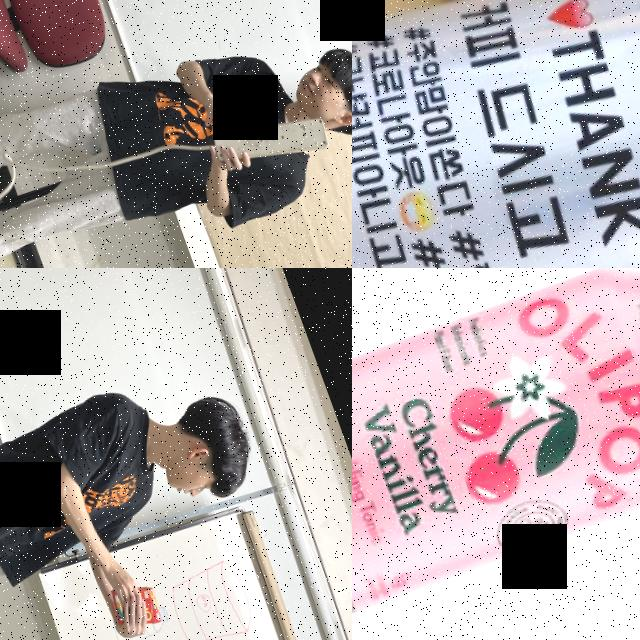can: (352, 268, 640, 633), (352, 0, 640, 268)
